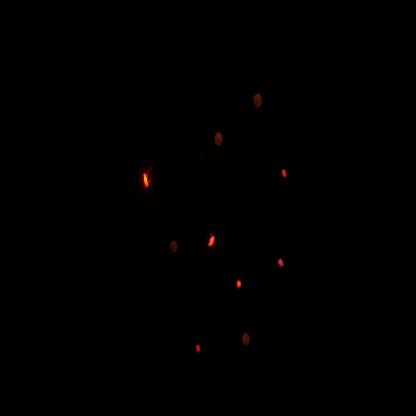PET: (187, 324, 214, 369), (271, 244, 296, 288), (273, 162, 291, 190)
PS: (237, 324, 255, 355), (165, 237, 182, 267), (252, 88, 268, 117), (215, 127, 229, 152)
PVC: (138, 160, 159, 204), (204, 227, 221, 256), (229, 273, 245, 298)
